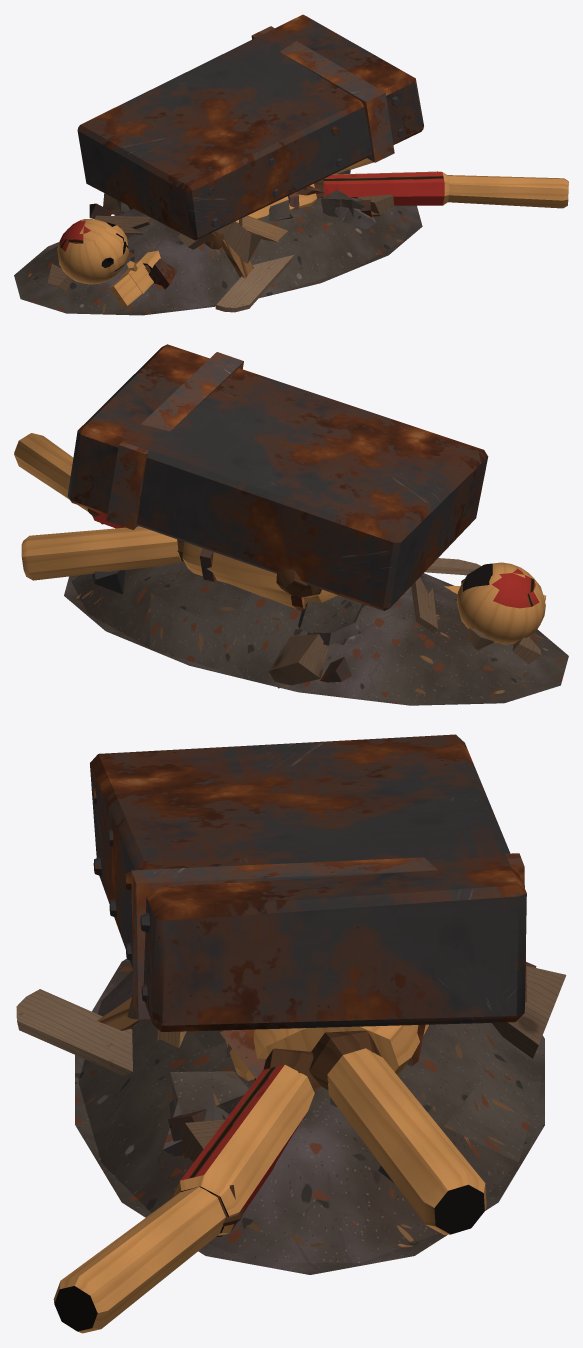
The model's file is Crushed_Puppet.glb.
3 renders of one model, top to bottom at view 1: azimuth 30°, elevation 25°; view 2: azimuth 150°, elevation 25°; view 3: azimuth 270°, elevation 25°, orthographic. The views are drawn at different scales.
Visible parts, largest first — view 1: Crushed_Puppet; view 2: Crushed_Puppet; view 3: Crushed_Puppet.
Part boxes in pixels (x1,y1,x2,y2): Crushed_Puppet: (14,14,568,315); Crushed_Puppet: (14,344,568,705); Crushed_Puppet: (16,734,566,1333).
Size of the model in its own units: 1.87 by 0.6146 by 0.9018.
12 materials, 11 textured.
